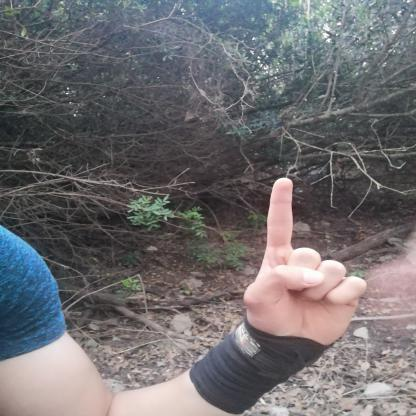BAA: (220, 163, 371, 355)
